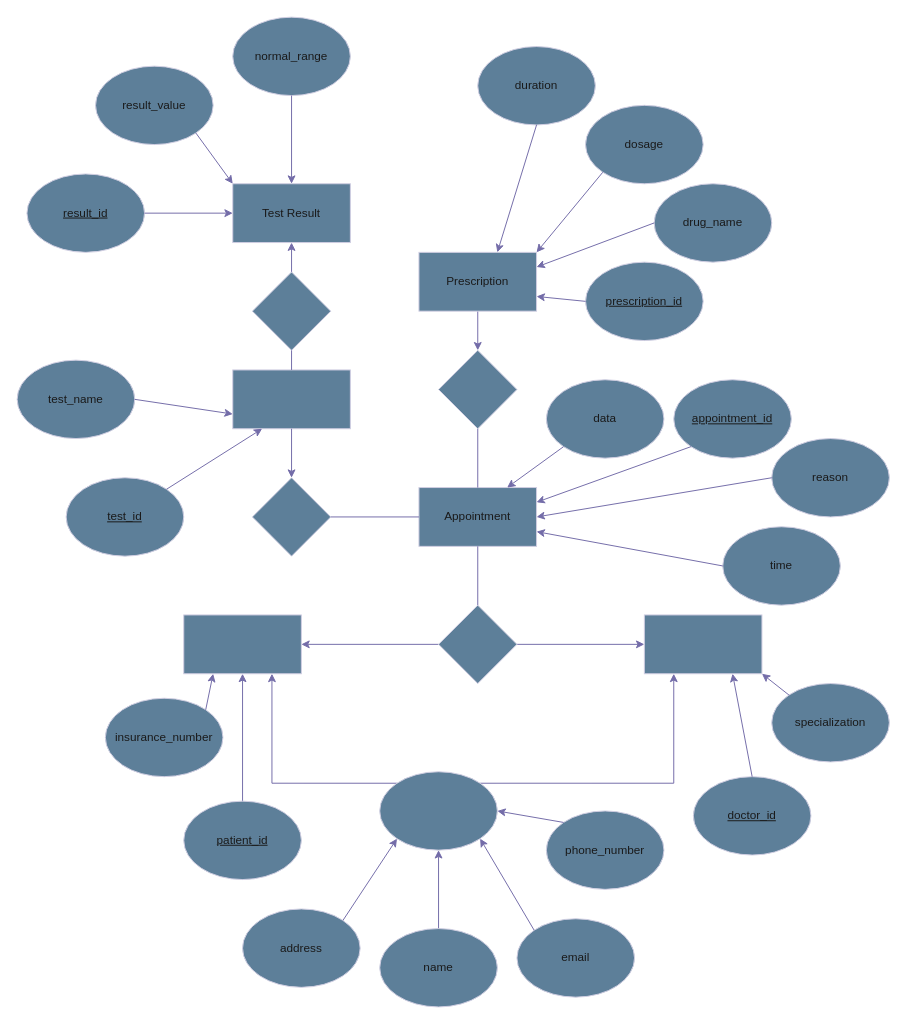
Image size: 907x1024. Some labels were removed from this diagram. Here are the shapes that lost their labels. From the top down, the box of each, then its label:
(251, 271, 331, 350): getting test results
(232, 369, 350, 429): Medical test
(438, 349, 517, 429): getting prescriptions
(251, 477, 331, 556): getting medical test
(183, 614, 301, 674): patient
(438, 604, 517, 684): making appointments
(643, 614, 762, 674): Doctor
(379, 771, 497, 850): Information
